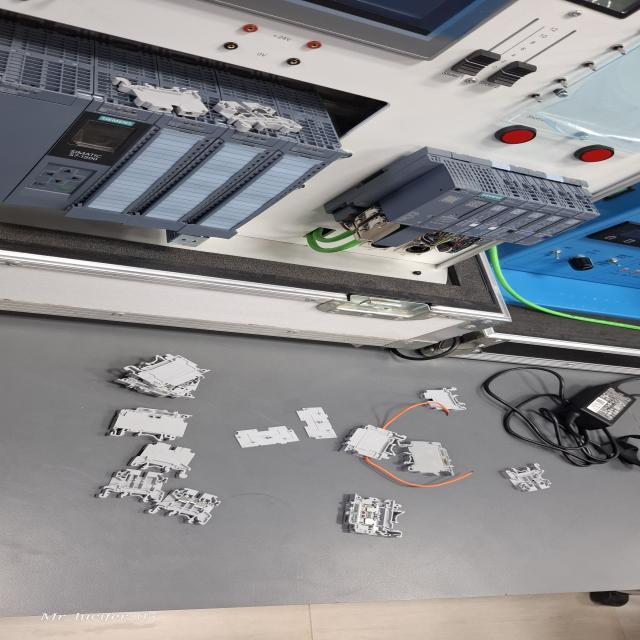Inverted: (116, 436, 208, 482), (397, 384, 478, 419)
Pass: (157, 483, 235, 534)
Reject: (92, 462, 178, 512), (485, 458, 563, 496)
